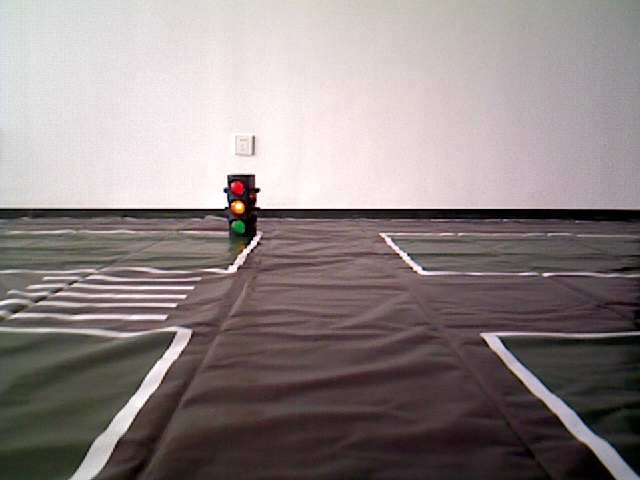yellow: (223, 174, 258, 240)
